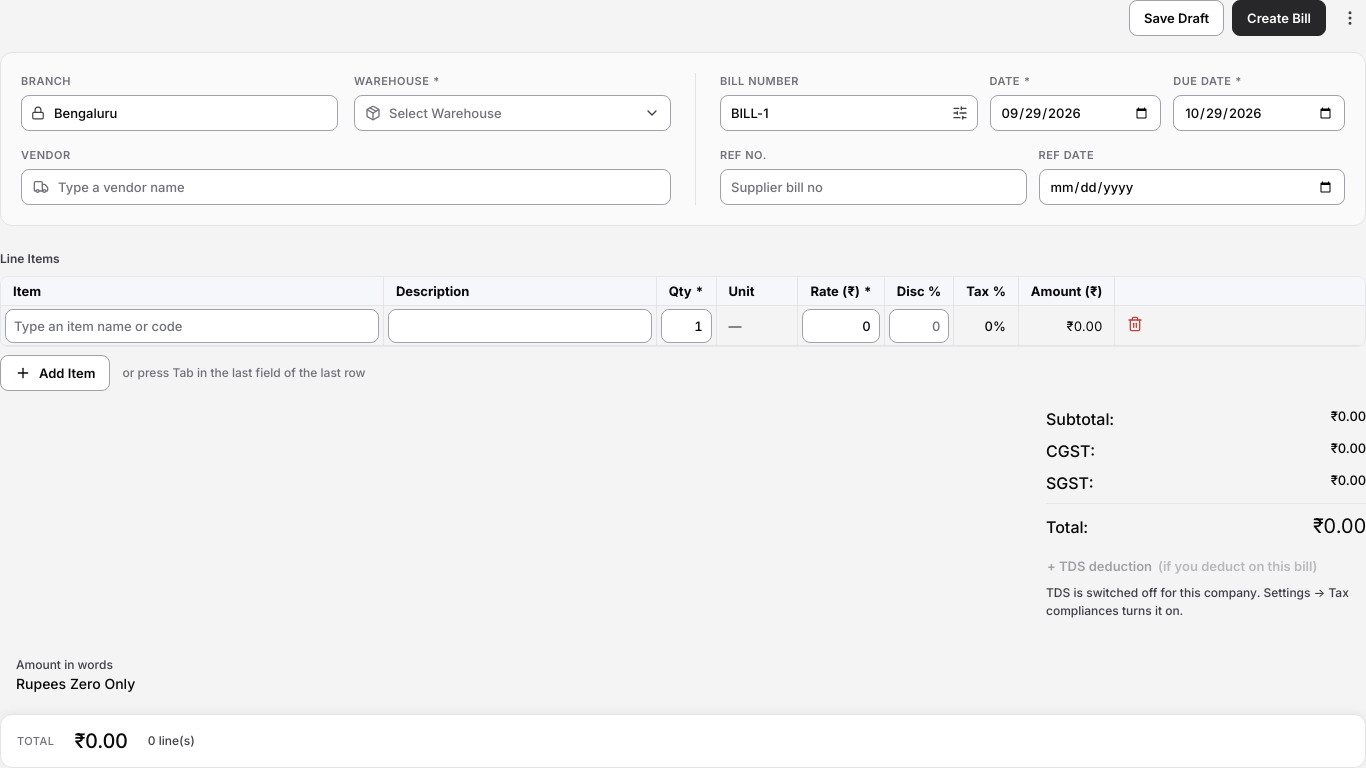
the bill form menu › separates reading this bill from configuring every bill
The image size is (1366, 768).
Click the button named "More options": (1350,18) [1334, 0, 1365, 36]
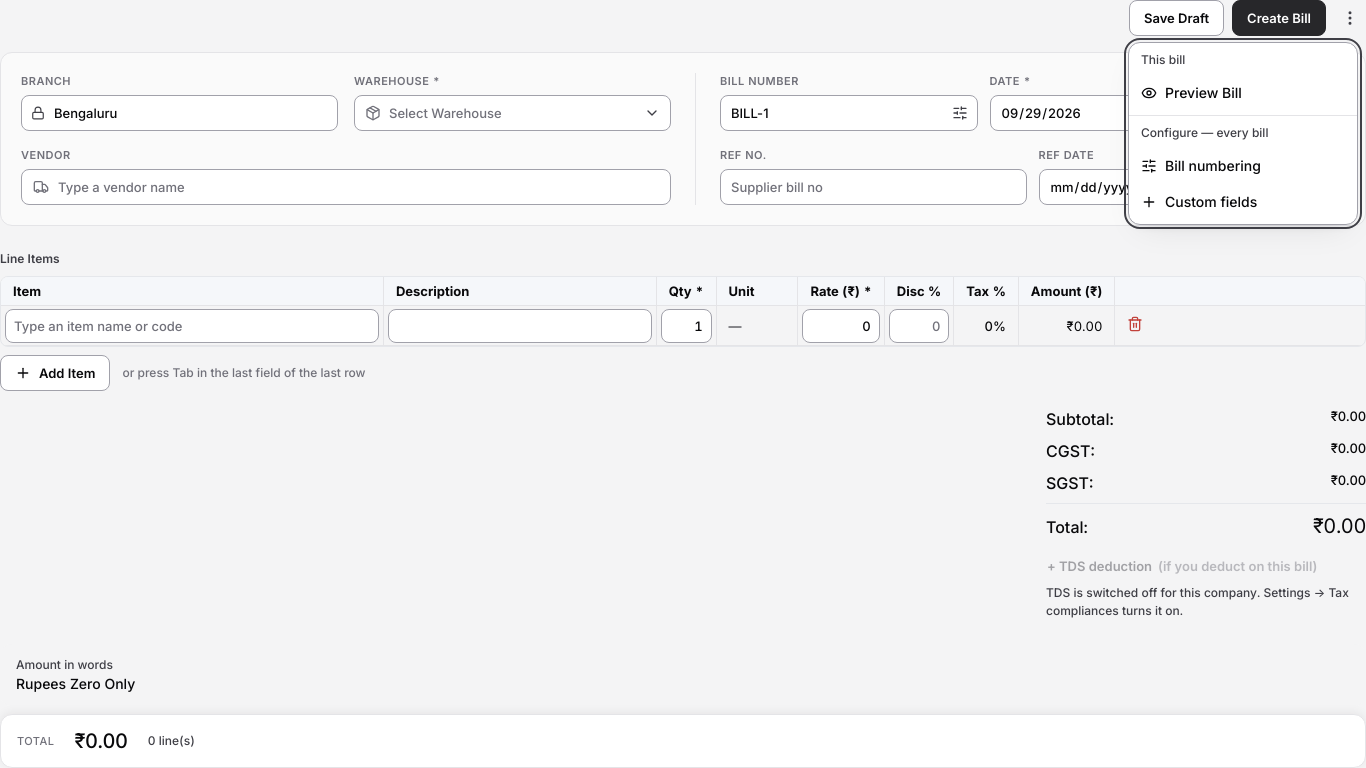
Result: the text "This bill" is shown at [1141, 52, 1185, 67]
Result: the text "Configure — every bill" is shown at [1141, 125, 1268, 140]
Result: the menu item "Preview Bill" is shown at [1129, 75, 1357, 111]
